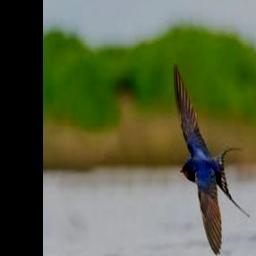Swallow: (174, 61, 251, 255)
